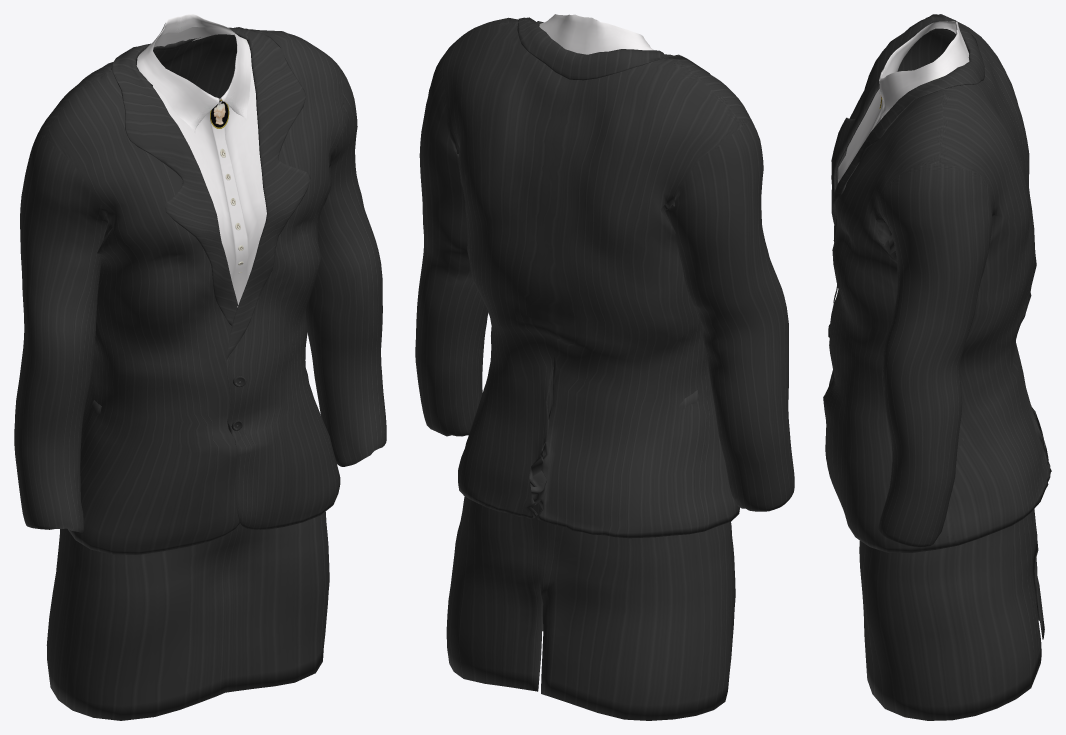
The model's file is full_skirt_suit.gltf.
The picture shows the model from 3 angles, left to right: view 1: azimuth 30°, elevation 25°; view 2: azimuth 150°, elevation 25°; view 3: azimuth 270°, elevation 25°; orthographic projection. The views are drawn at different scales.
Visible parts, largest first — view 1: full_skirt_suit; view 2: full_skirt_suit; view 3: full_skirt_suit.
Part boxes in pixels (left/top/right/bottom): full_skirt_suit: left=14, top=14, right=386, bottom=720; full_skirt_suit: left=415, top=14, right=794, bottom=720; full_skirt_suit: left=823, top=14, right=1051, bottom=720.
Bounding box in the file's own units: 0.5593 × 0.9762 × 0.318.
Materials: 1 (1 with a texture image).
